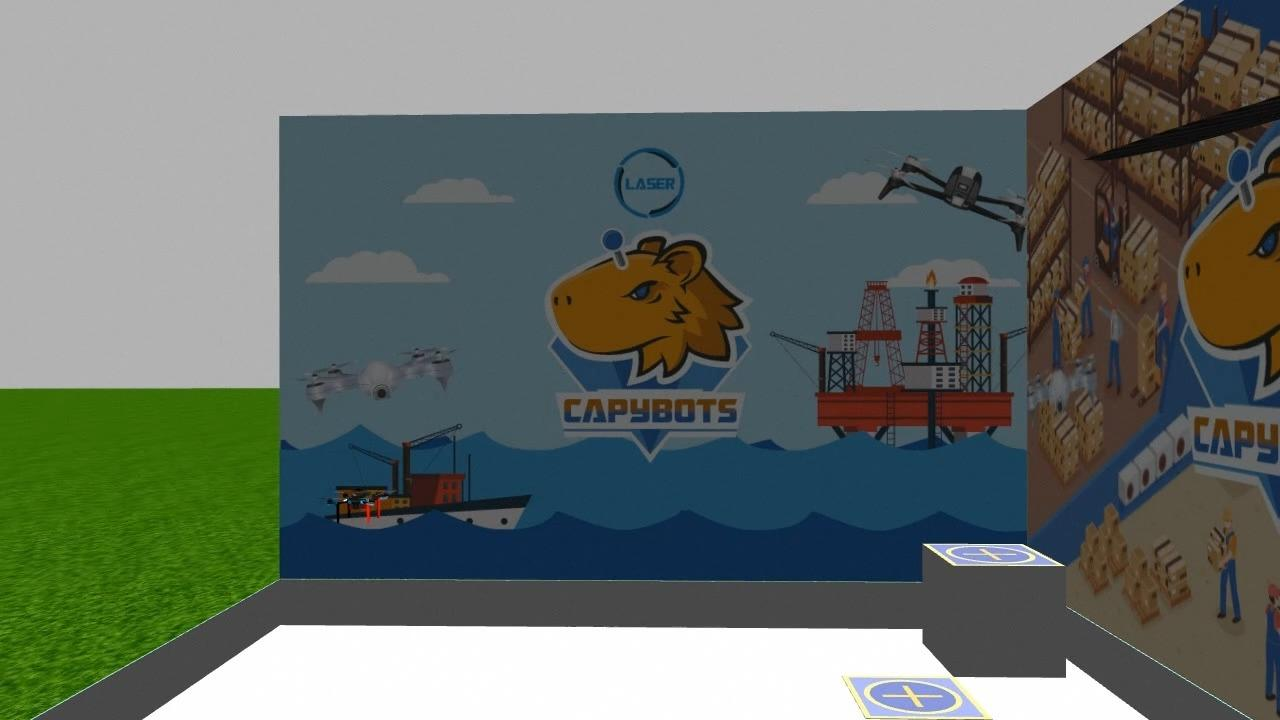UAV: (314, 477, 398, 533)
